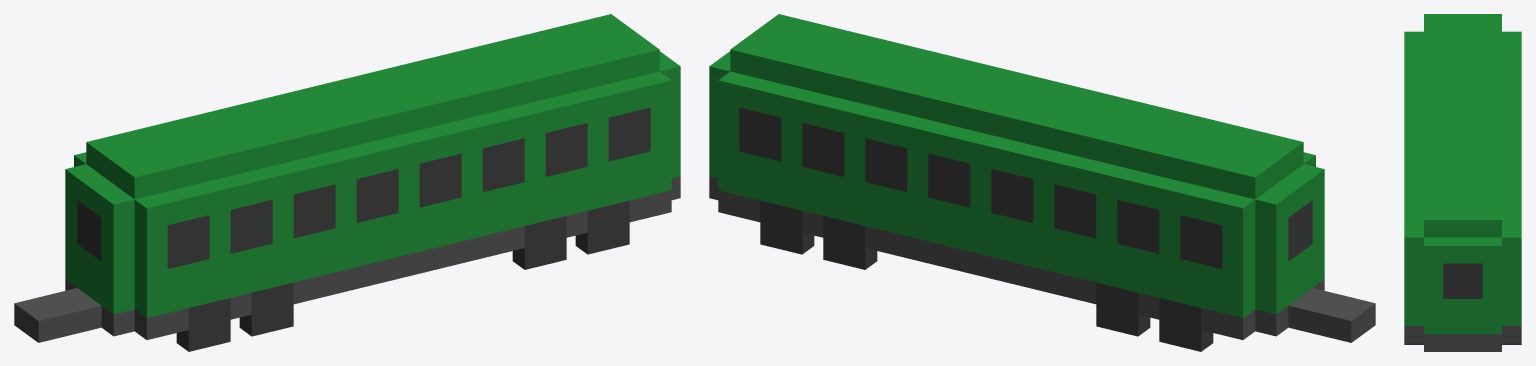
File: train-trailer-v3-green.gltf
3 views of the same model, side by side, from view 1: azimuth 30°, elevation 25°; view 2: azimuth 150°, elevation 25°; view 3: azimuth 270°, elevation 25° (orthographic). The views are drawn at different scales.
Visible parts, largest first — view 1: model, wheels; view 2: model, wheels; view 3: model.
Part boxes in pixels (left/top/right/bottom): model: left=14, top=14, right=680, bottom=342; wheels: left=176, top=200, right=629, bottom=351; model: left=709, top=14, right=1375, bottom=342; wheels: left=760, top=200, right=1213, bottom=351; model: left=1404, top=14, right=1521, bottom=351.
Bounding box in the file's own units: 3 × 0.8 × 0.6.
2 materials, 2 textured.
